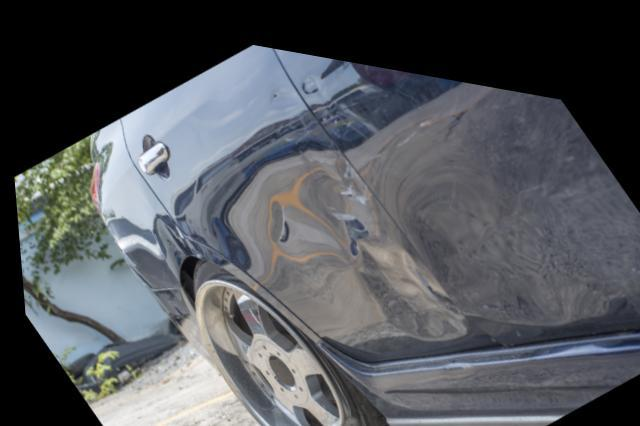dent: (258, 146, 459, 326), (402, 166, 573, 312)
tire flat: (189, 255, 411, 426)
